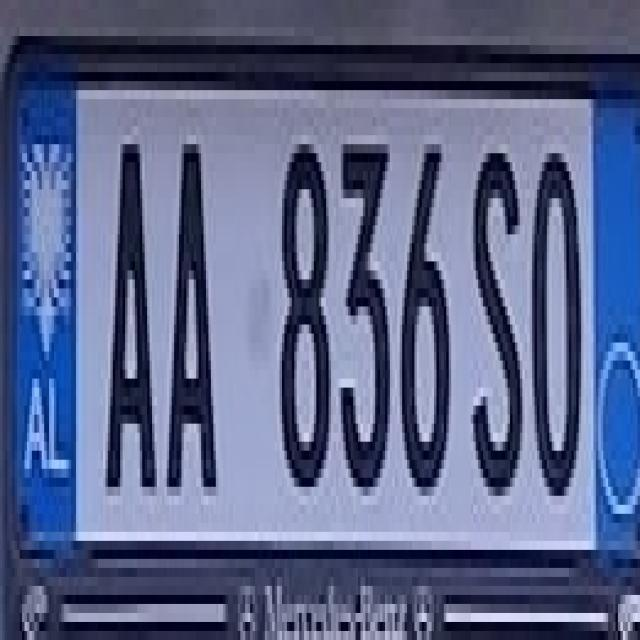0: (522, 126, 586, 505)
3: (328, 99, 394, 487)
6: (392, 126, 458, 487)
8: (270, 99, 336, 487)
A: (152, 100, 218, 504), (91, 108, 157, 496)
S: (458, 126, 524, 487)
